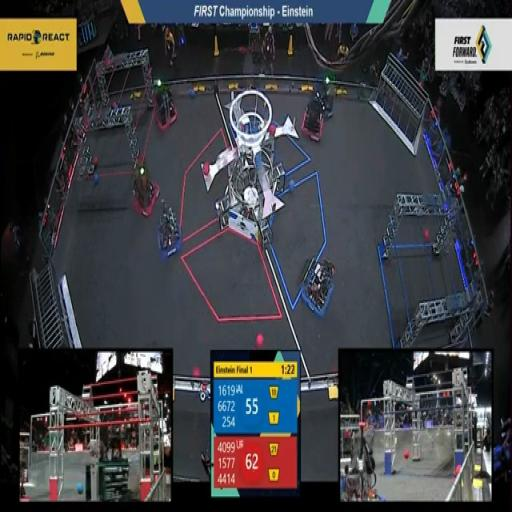robot: (298, 254, 338, 323), (153, 194, 183, 266), (128, 165, 160, 223), (151, 78, 179, 139), (308, 72, 336, 122), (299, 99, 325, 151)
